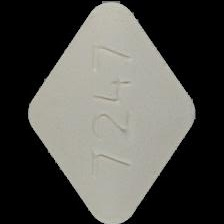0615-7546: (0, 0, 224, 224)
